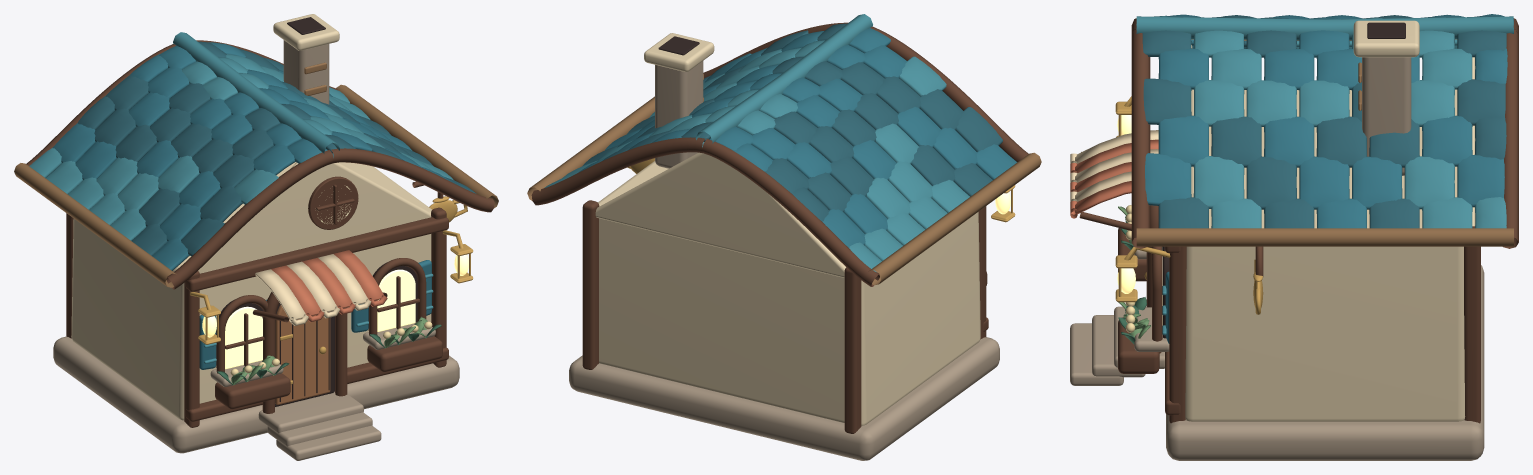
The model's file is harbor_tea_house.glb.
3 views of the same model, side by side, from view 1: azimuth 30°, elevation 25°; view 2: azimuth 150°, elevation 25°; view 3: azimuth 270°, elevation 25° (orthographic). The views are drawn at different scales.
Parts seen in each view (by area): view 1: Lime plaster / warm ivory, Oiled chestnut joinery, Rounded limestone footing, Teal ceramic glaze, Teal glaze dark, Teal glaze light, Polished worn timber edge, Warm window glass, Honey oak door boards, Canvas stripe, Terracotta sailcloth, Deep joinery recess (+2 smaller); view 2: Lime plaster / warm ivory, Rounded limestone footing, Teal ceramic glaze, Teal glaze dark, Oiled chestnut joinery, Teal glaze light, Polished worn timber edge; view 3: Lime plaster / warm ivory, Teal glaze light, Teal ceramic glaze, Rounded limestone footing, Teal glaze dark, Oiled chestnut joinery, Polished worn timber edge, Terracotta sailcloth, Canvas stripe, Antique brass, Deep joinery recess, Warm window glass.
Boxes of the visible parts, box(x1,y1,x2,y2) form: Lime plaster / warm ivory: box(71, 14, 431, 420); Oiled chestnut joinery: box(26, 40, 494, 427); Rounded limestone footing: box(53, 40, 459, 460); Teal ceramic glaze: box(52, 42, 450, 369); Teal glaze dark: box(78, 41, 476, 256); Teal glaze light: box(29, 32, 453, 363); Polished worn timber edge: box(14, 62, 498, 287); Warm window glass: box(202, 186, 468, 369); Honey oak door boards: box(275, 304, 330, 404); Canvas stripe: box(255, 254, 371, 325); Terracotta sailcloth: box(271, 250, 387, 322); Deep joinery recess: box(216, 17, 417, 406); Lime plaster / warm ivory: box(595, 33, 980, 425); Rounded limestone footing: box(569, 61, 999, 460); Teal ceramic glaze: box(578, 28, 1017, 247); Teal glaze dark: box(583, 23, 1002, 221); Oiled chestnut joinery: box(531, 22, 1028, 433); Teal glaze light: box(544, 14, 969, 272); Polished worn timber edge: box(527, 74, 1041, 285); Lime plaster / warm ivory: box(1185, 20, 1475, 421); Teal glaze light: box(1136, 15, 1513, 335); Teal ceramic glaze: box(1145, 14, 1507, 343); Rounded limestone footing: box(1070, 57, 1484, 460); Teal glaze dark: box(1142, 15, 1506, 228); Oiled chestnut joinery: box(1079, 18, 1518, 423); Polished worn timber edge: box(1136, 39, 1513, 246); Terracotta sailcloth: box(1070, 139, 1158, 218); Canvas stripe: box(1070, 130, 1158, 201); Antique brass: box(1115, 96, 1263, 314); Deep joinery recess: box(1163, 22, 1405, 338); Warm window glass: box(1117, 115, 1162, 325).
Bounding box in the file's own units: 4.61 × 3.96 × 4.09.
